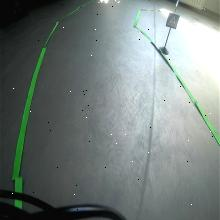crosswalk: (165, 12, 180, 29)
